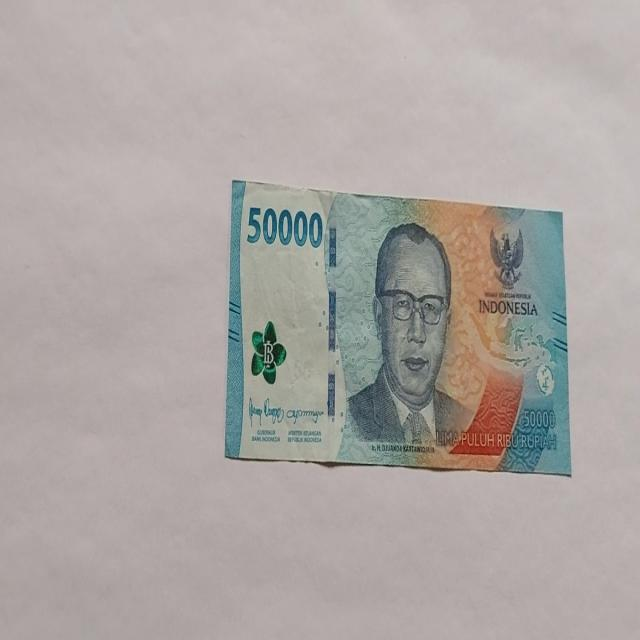lima puluh ribu rupiah: (224, 177, 572, 474), (344, 220, 474, 454)
